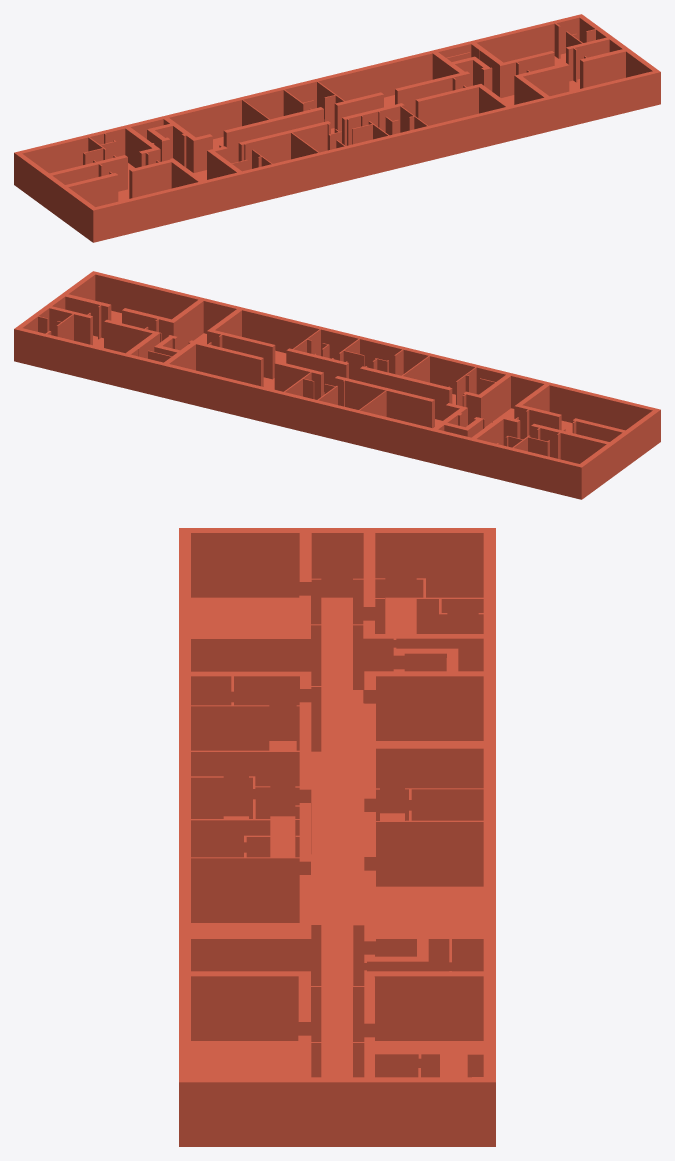
Rendered from 2 building (8th floor).fbx.
The picture shows the model from 3 angles, top to bottom: view 1: azimuth 30°, elevation 25°; view 2: azimuth 150°, elevation 25°; view 3: azimuth 270°, elevation 25°; orthographic projection. The views are drawn at different scales.
Visible parts, largest first — view 1: Walls, Floor; view 2: Walls, Floor; view 3: Walls, Floor.
Boxes of the visible parts, x1=… form: Walls: x1=14, y1=14, x2=660, y2=242; Floor: x1=118, y1=53, x2=579, y2=201; Walls: x1=14, y1=271, x2=660, y2=499; Floor: x1=93, y1=310, x2=572, y2=432; Walls: x1=179, y1=528, x2=495, y2=1146; Floor: x1=191, y1=597, x2=483, y2=1077.
Bounding box in the file's own units: 5889 × 320 × 1422.
